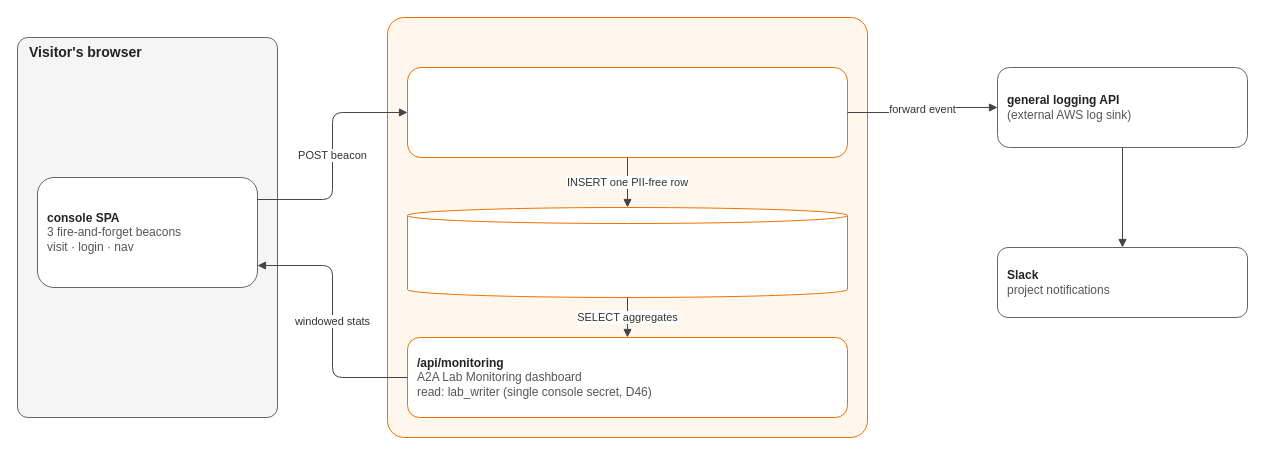
The diagram is 1265 pixels wide and 455 high, and some of its shapes have lost their labels. The box of each missing label's shape, as (x1, y1, x2, y2) in pixels:
/api/track proxy stamps persona from JWT, country from CF-IPCountry: (406, 66, 848, 158)
Aurora Postgres lab.usage_events read+write: lab_writer: (406, 206, 848, 298)
AWS — us-east-1 (the console on Fargate): (386, 16, 868, 438)
